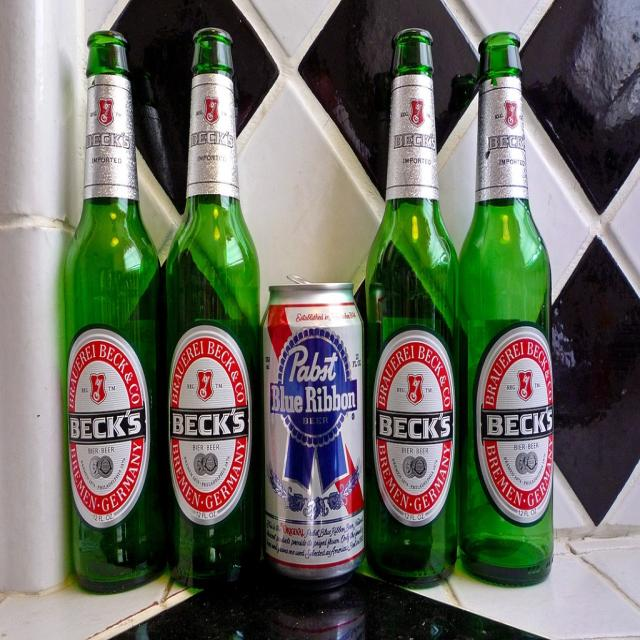becks: (168, 325, 254, 528), (67, 325, 152, 530), (373, 332, 457, 529), (477, 327, 554, 524)
